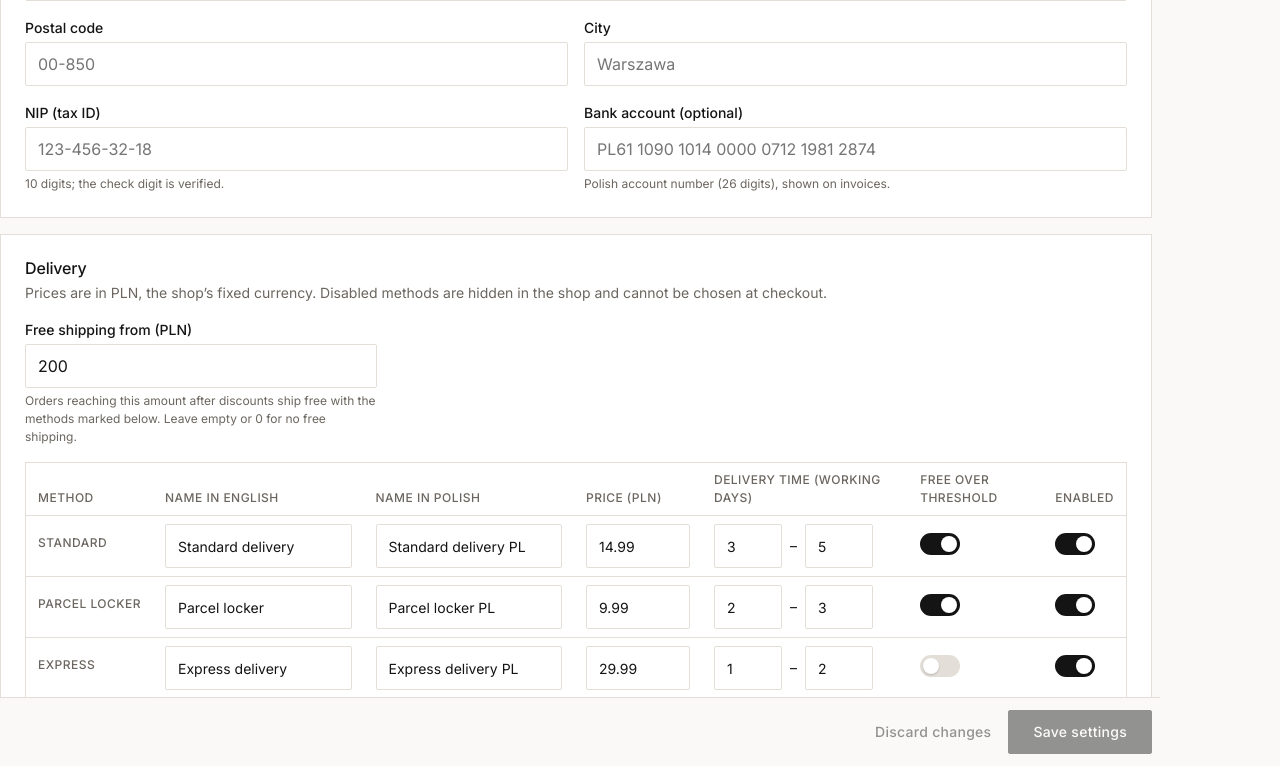
Scenario: Settings page › saves changes and reports success
(page scrolled)
Replace the text in the number field labelled "Free shipping from (PLN)" with "250" at (201, 366), box [25,344,377,388]
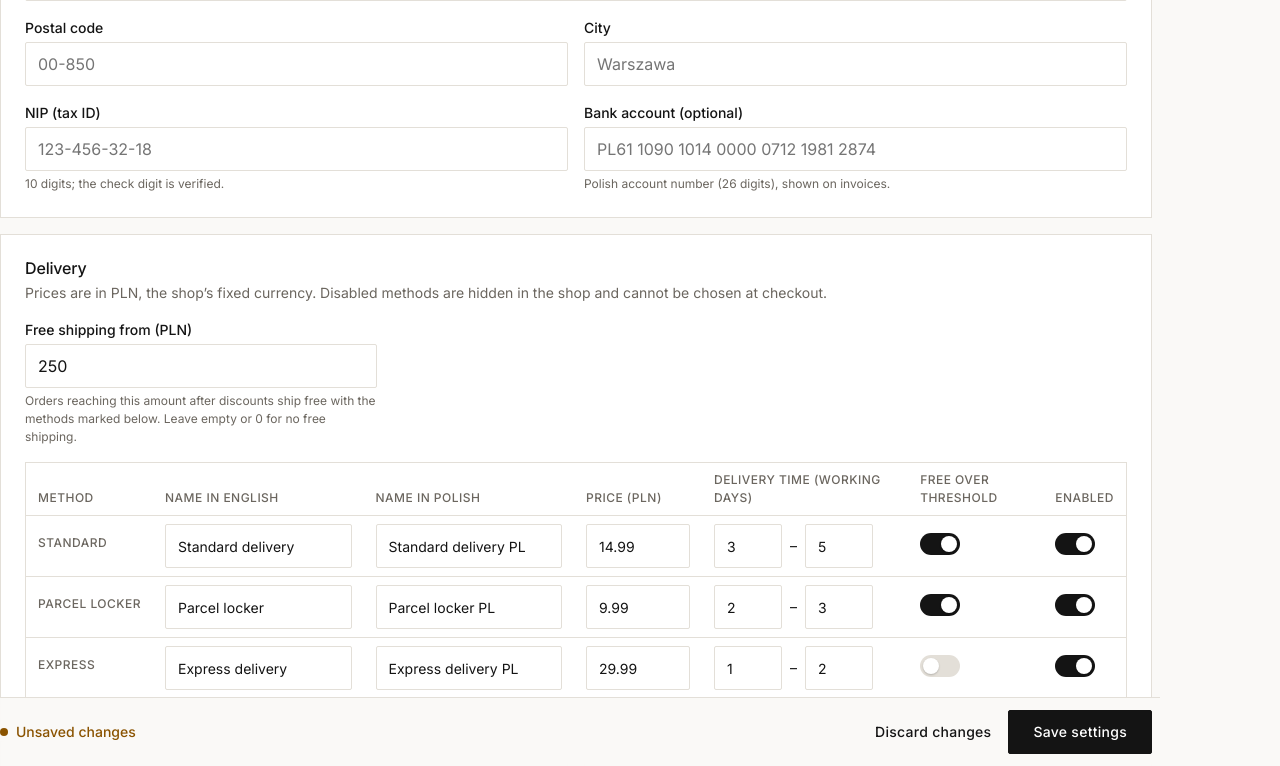
Replace the text in the number field named "Parcel locker: price in PLN" with "11.5" at (638, 607), box [586,585,690,629]
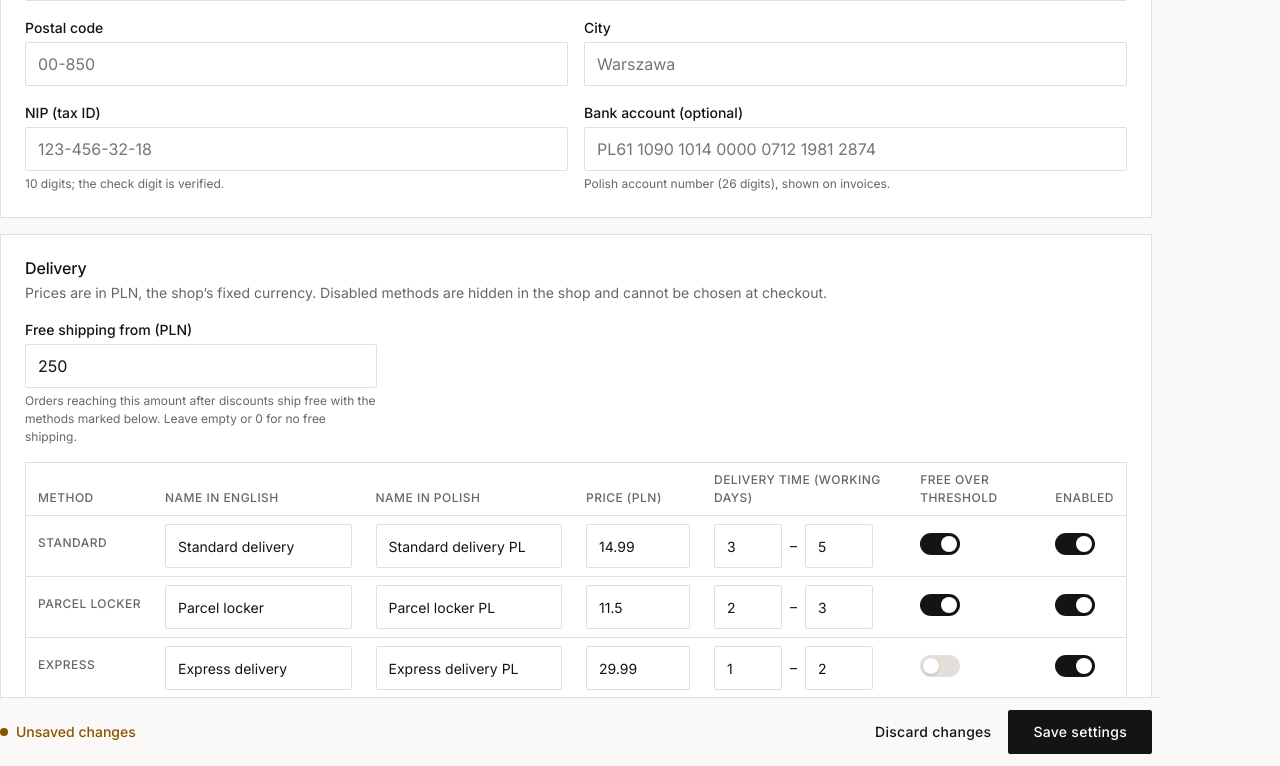
Click the checkbox named "Express: enabled" at (1075, 666), box [1055,655,1095,677]
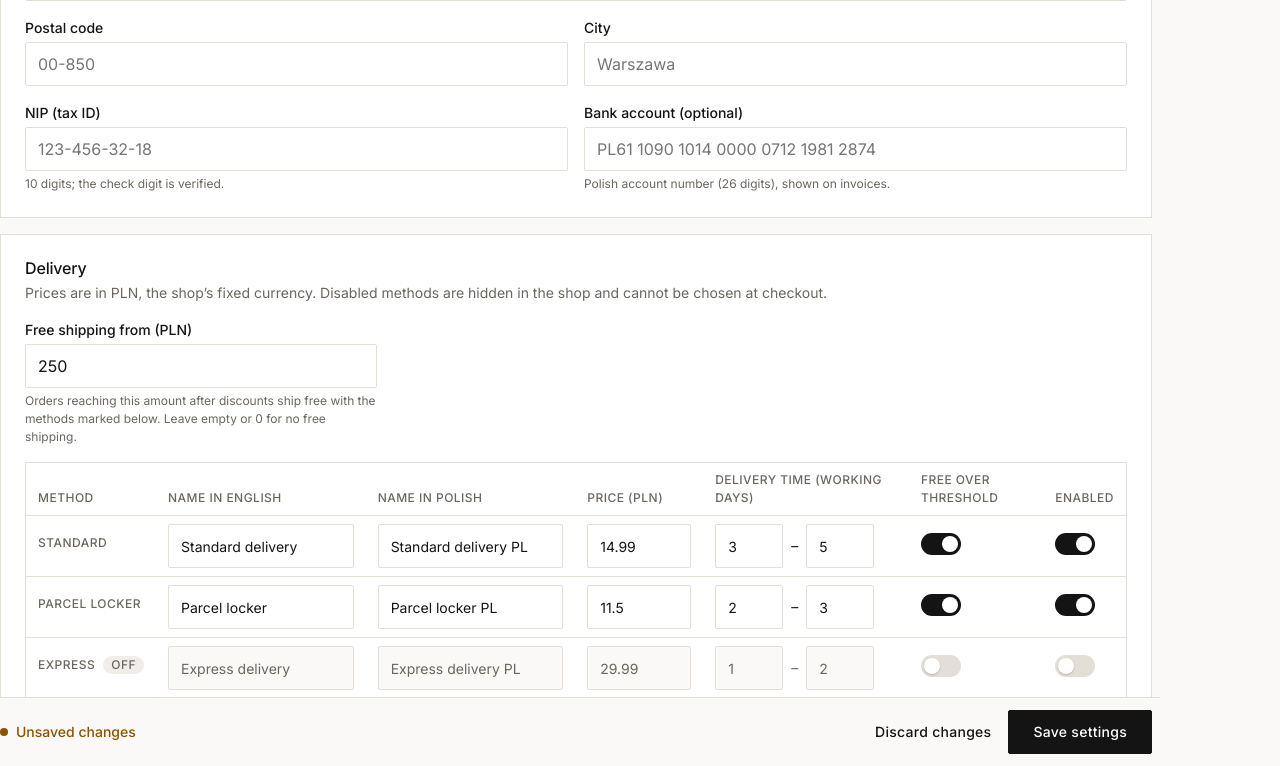
Result: the text "Unsaved changes" is shown at [0,722,136,742]
Click the button "Save settings" at (1080, 732), box [1008,710,1152,754]
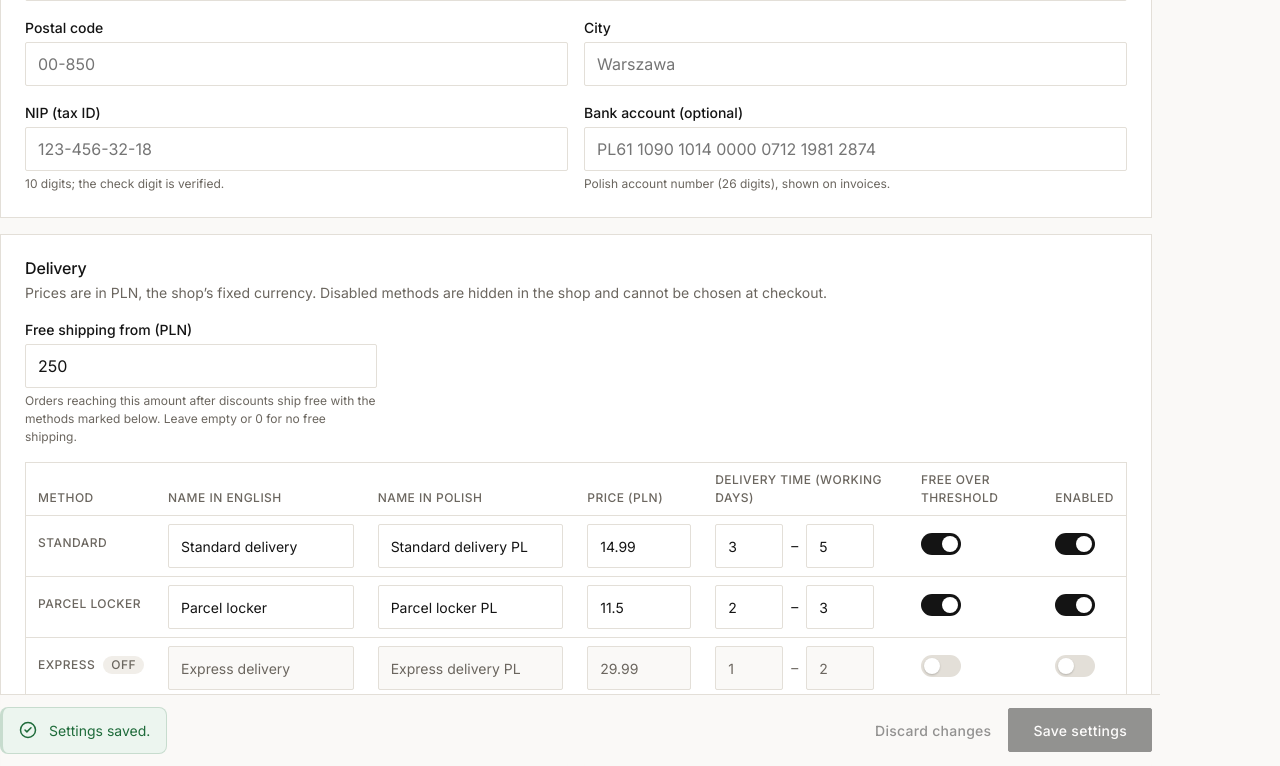
Result: the text "Settings saved." is shown at [49,720,150,741]
Result: the text "Unsaved changes" is gone
